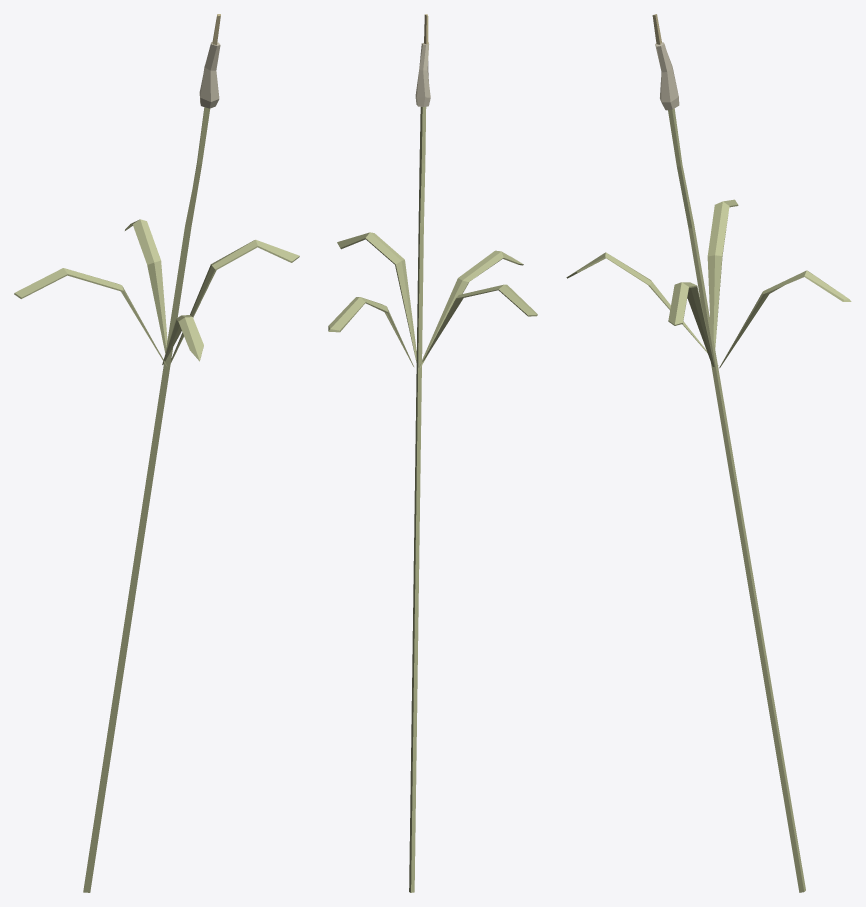
The model's file is Reed_3.fbx.
3 views of the same model, side by side, from view 1: azimuth 30°, elevation 25°; view 2: azimuth 150°, elevation 25°; view 3: azimuth 270°, elevation 25° (orthographic). The views are drawn at different scales.
Visible parts, largest first — view 1: Reed_3; view 2: Reed_3; view 3: Reed_3.
Boxes of the visible parts, bbox=[...] form: Reed_3: bbox=[14, 14, 299, 892]; Reed_3: bbox=[328, 14, 537, 892]; Reed_3: bbox=[566, 14, 851, 892].
Size of the model in its own units: 0.0358 by 0.1231 by 0.0352.
